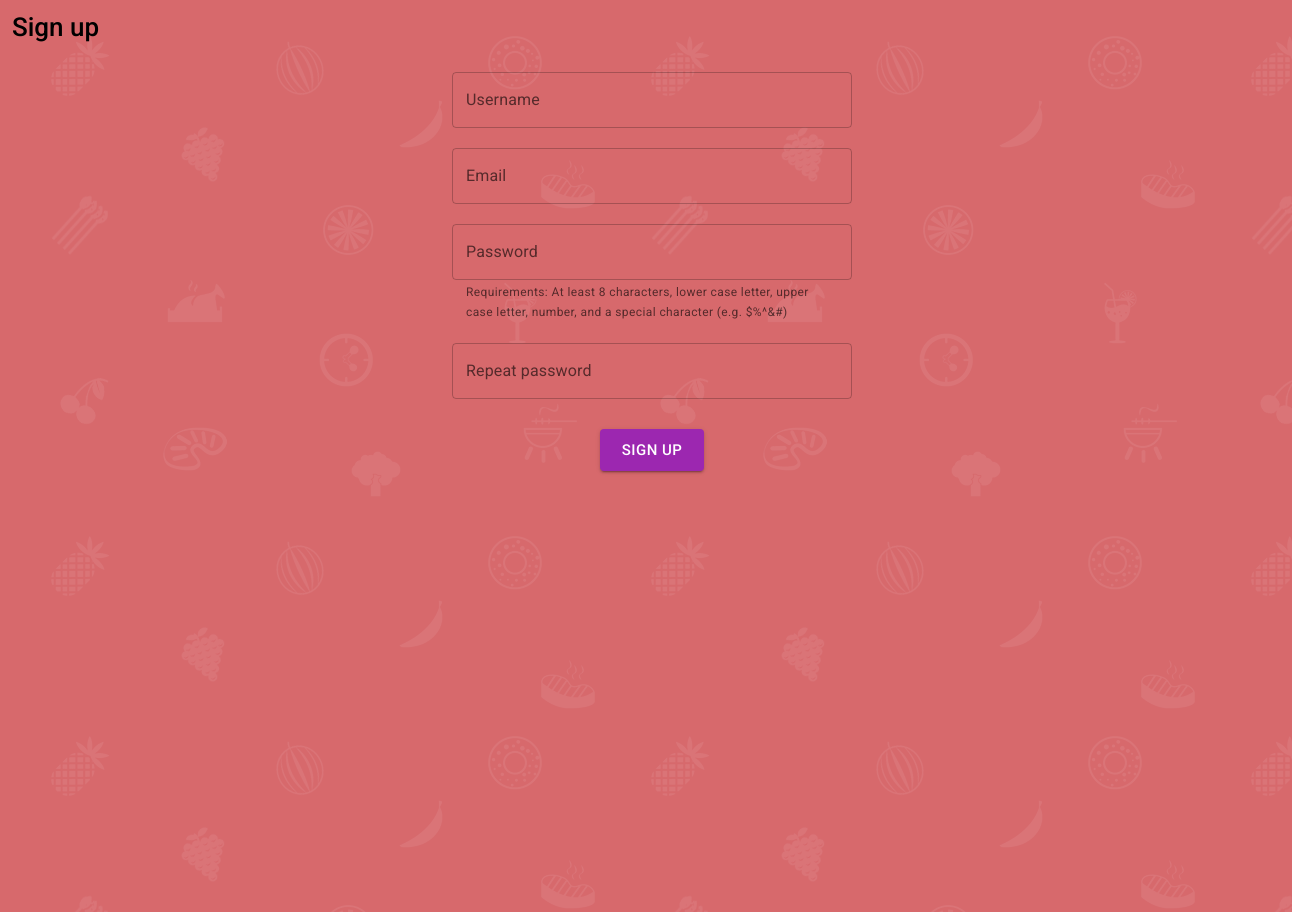
it: I should not be able to enter a username with spaces
Type "username with spaces" into the field labelled "Username" at coordinates (652, 100), box [452, 72, 852, 128]
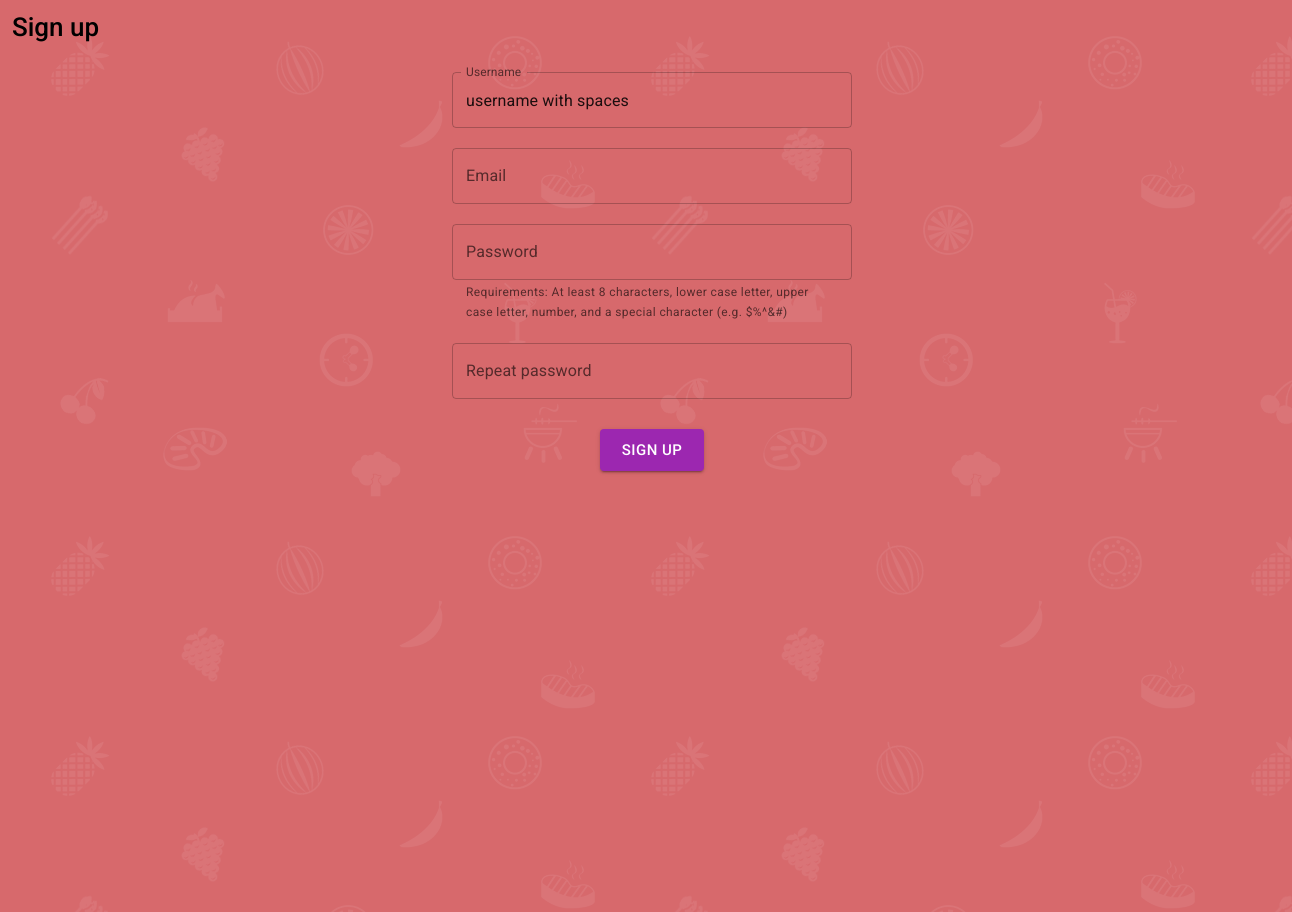
Click the button "Sign up" at coordinates (652, 450), box [600, 429, 704, 471]
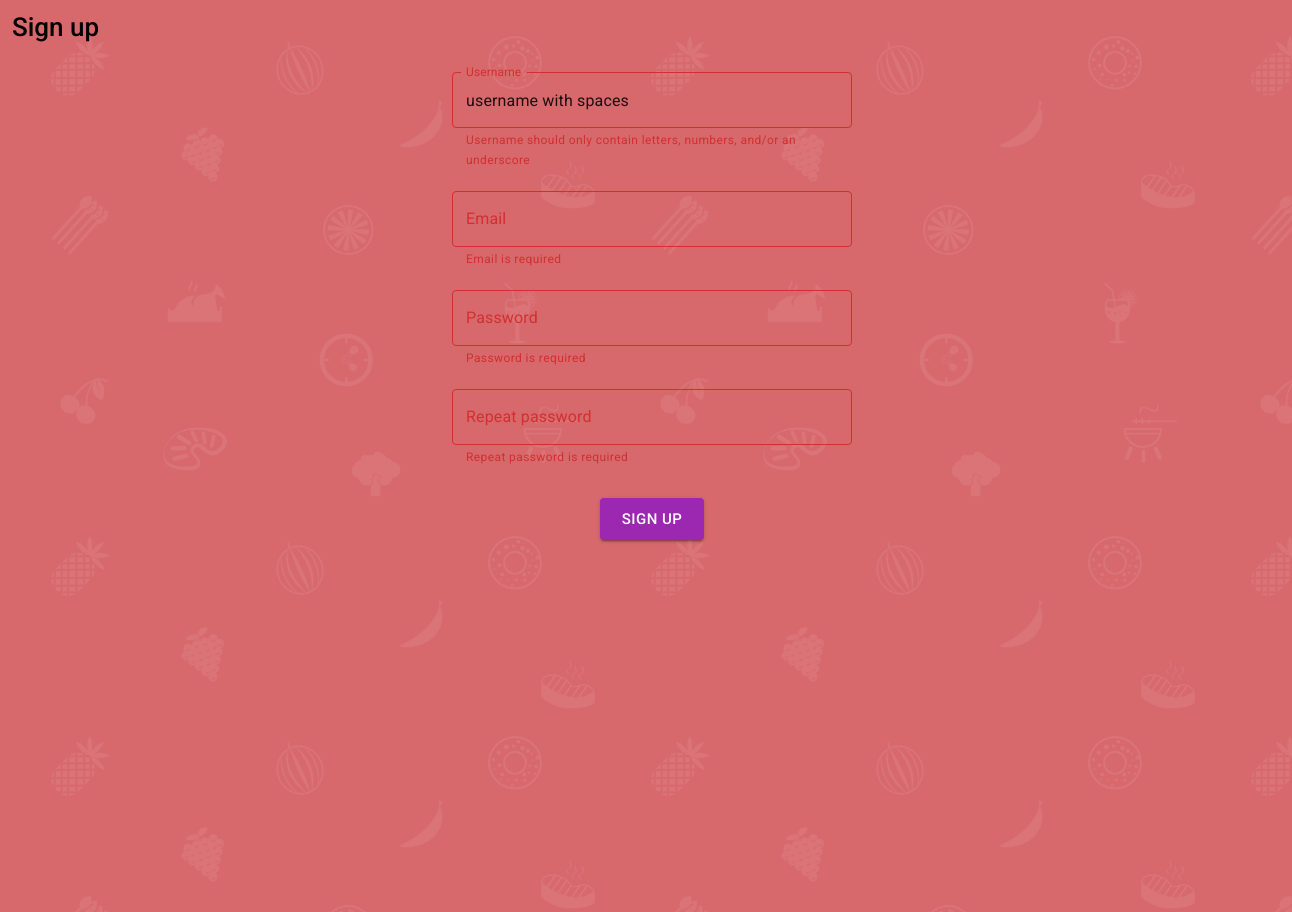
Expected: the text "Username should only contain letters, numbers, and/or an underscore" is shown, [466, 131, 838, 171]
